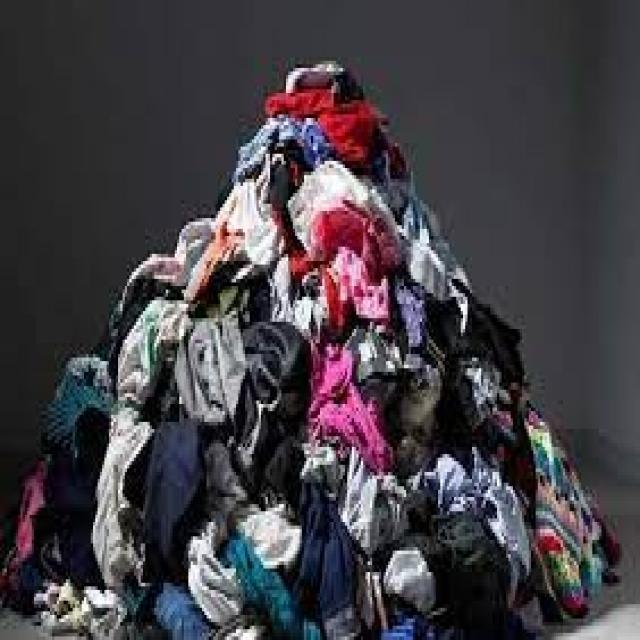Clothes -Biodegradable-: (0, 57, 626, 640)
